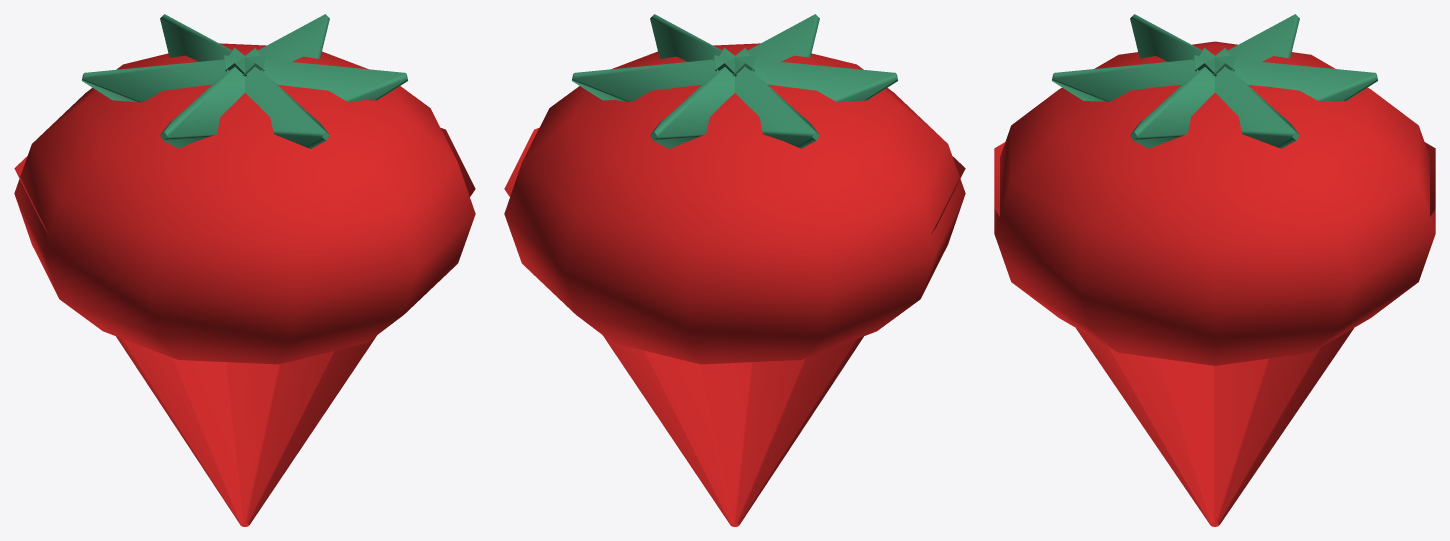
The model's file is food_cilek.glb.
3 views of the same model, side by side, from view 1: azimuth 30°, elevation 25°; view 2: azimuth 150°, elevation 25°; view 3: azimuth 270°, elevation 25° (orthographic).
Parts seen in each view (by area): view 1: FoodNode_cilek; view 2: FoodNode_cilek; view 3: FoodNode_cilek.
Part boxes in pixels (x1=…): FoodNode_cilek: x1=14, y1=14, x2=475, y2=526; FoodNode_cilek: x1=504, y1=14, x2=965, y2=526; FoodNode_cilek: x1=994, y1=14, x2=1435, y2=526.
Bounding box in the file's own units: 0.2024 × 0.2261 × 0.1925.
